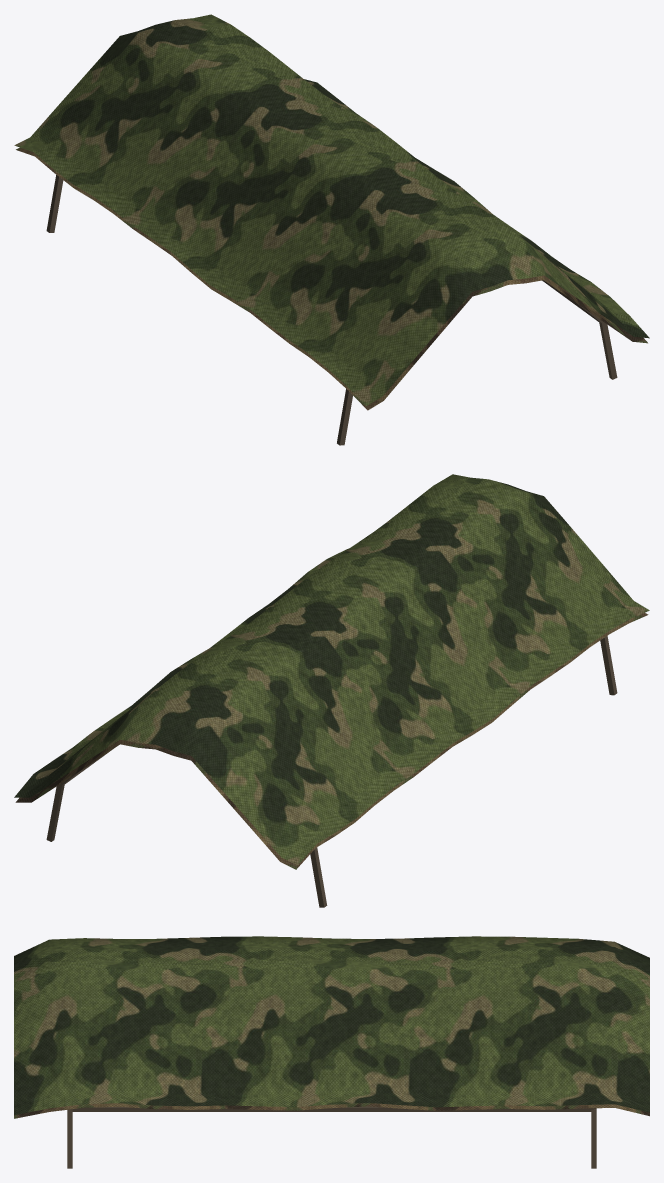
File: tent.glb
3 renders of one model, top to bottom at view 1: azimuth 30°, elevation 25°; view 2: azimuth 150°, elevation 25°; view 3: azimuth 270°, elevation 25°, orthographic. The views are drawn at different scales.
Parts seen in each view (by area): view 1: SM_CamoNetTent_Stage5_Nanite; view 2: SM_CamoNetTent_Stage5_Nanite; view 3: SM_CamoNetTent_Stage5_Nanite.
Boxes of the visible parts, bbox=[...] form: SM_CamoNetTent_Stage5_Nanite: bbox=[14, 14, 649, 445]; SM_CamoNetTent_Stage5_Nanite: bbox=[14, 474, 649, 907]; SM_CamoNetTent_Stage5_Nanite: bbox=[14, 936, 649, 1168].
Bounding box in the file's own units: 1.58 × 0.9406 × 3.4.
Materials: 3 (2 with a texture image).
